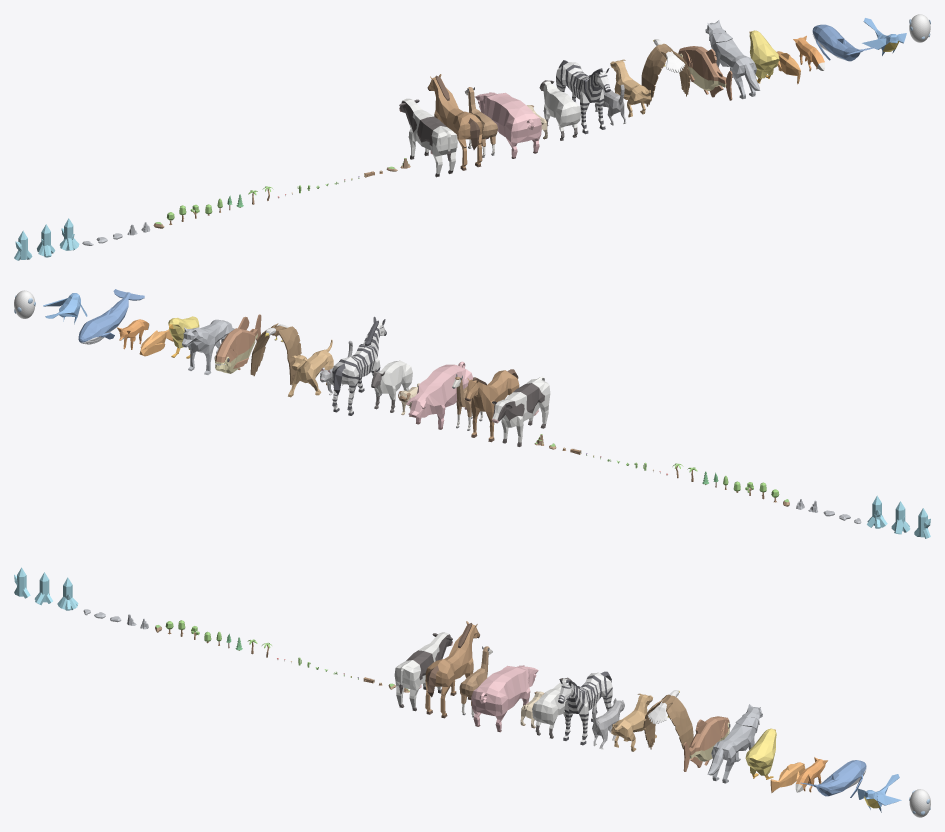
File: CriasMiticas_Modelos.glb
3 renders of one model, top to bottom at view 1: azimuth 30°, elevation 25°; view 2: azimuth 150°, elevation 25°; view 3: azimuth 330°, elevation 25°, orthographic.
Visible parts, largest first — view 1: Pig__Material003, Wolf__Wolf, Horse__Material003, Cow__White, Zebra__White, Piranha__Brown, Sheep__White, Eagle__Wings, Zebra__Black, Whale__Material001, Dog__Dog, Chick__Material001 (+5 smaller); view 2: Pig__Material003, Horse__Material003, Wolf__Wolf, Cow__White, Zebra__White, Whale__Material001, Zebra__Black, Piranha__Brown, Eagle__Wings, Dog__Dog, Sheep__White, Cow__Black (+3 smaller); view 3: Pig__Material003, Horse__Material003, Wolf__Wolf, Zebra__White, Cow__White, Eagle__Wings, Piranha__Brown, Zebra__Black, Whale__Material001, Dog__Dog, Chick__Material001, Sheep__White (+5 smaller).
Boxes of the visible parts, x1=… form: Pig__Material003: x1=475, y1=92, x2=541, y2=157; Wolf__Wolf: x1=705, y1=20, x2=760, y2=99; Horse__Material003: x1=428, y1=74, x2=482, y2=168; Cow__White: x1=403, y1=98, x2=457, y2=174; Zebra__White: x1=556, y1=62, x2=610, y2=131; Piranha__Brown: x1=678, y1=46, x2=732, y2=100; Sheep__White: x1=543, y1=81, x2=581, y2=131; Eagle__Wings: x1=641, y1=43, x2=690, y2=106; Zebra__Black: x1=556, y1=60, x2=610, y2=134; Whale__Material001: x1=812, y1=24, x2=876, y2=61; Dog__Dog: x1=610, y1=59, x2=651, y2=117; Chick__Material001: x1=749, y1=30, x2=779, y2=78; Pig__Material003: x1=406, y1=361, x2=472, y2=427; Horse__Material003: x1=465, y1=370, x2=519, y2=438; Wolf__Wolf: x1=182, y1=319, x2=234, y2=374; Cow__White: x1=492, y1=376, x2=550, y2=442; Zebra__White: x1=332, y1=322, x2=386, y2=413; Whale__Material001: x1=78, y1=289, x2=144, y2=342; Zebra__Black: x1=332, y1=316, x2=386, y2=415; Piranha__Brown: x1=215, y1=314, x2=261, y2=369; Eagle__Wings: x1=250, y1=323, x2=301, y2=385; Dog__Dog: x1=288, y1=339, x2=333, y2=397; Sheep__White: x1=375, y1=360, x2=412, y2=399; Cow__Black: x1=492, y1=383, x2=545, y2=446; Pig__Material003: x1=471, y1=665, x2=538, y2=730; Horse__Material003: x1=425, y1=621, x2=479, y2=715; Wolf__Wolf: x1=707, y1=704, x2=762, y2=783; Zebra__White: x1=558, y1=672, x2=612, y2=742; Cow__White: x1=394, y1=632, x2=449, y2=708; Eagle__Wings: x1=643, y1=694, x2=693, y2=749; Piranha__Brown: x1=683, y1=716, x2=729, y2=771; Zebra__Black: x1=558, y1=671, x2=612, y2=745; Whale__Material001: x1=800, y1=760, x2=866, y2=797; Dog__Dog: x1=611, y1=693, x2=656, y2=751; Chick__Material001: x1=745, y1=728, x2=776, y2=775; Sheep__White: x1=532, y1=678, x2=567, y2=729.
Size of the model in its own units: 988 by 70.74 by 100.
